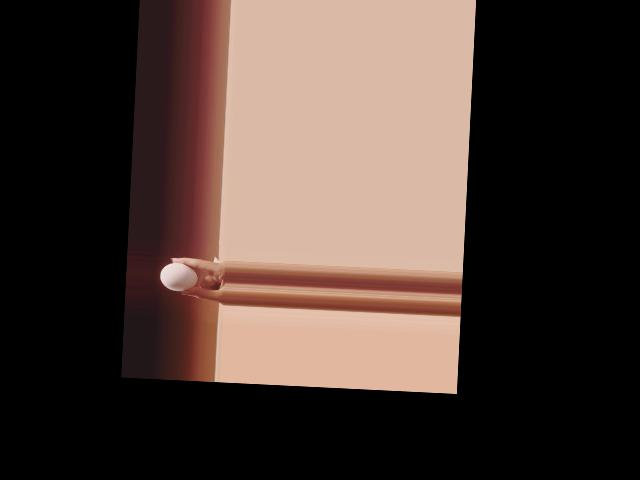egg: (159, 262, 199, 292)
